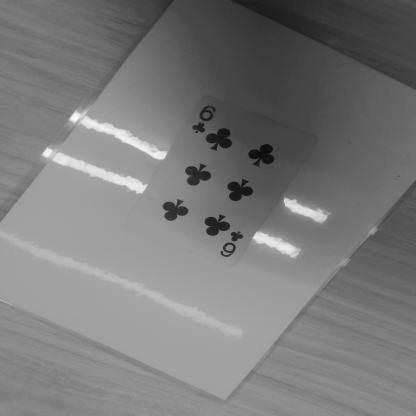6C: (183, 105, 219, 138), (217, 230, 250, 262)
